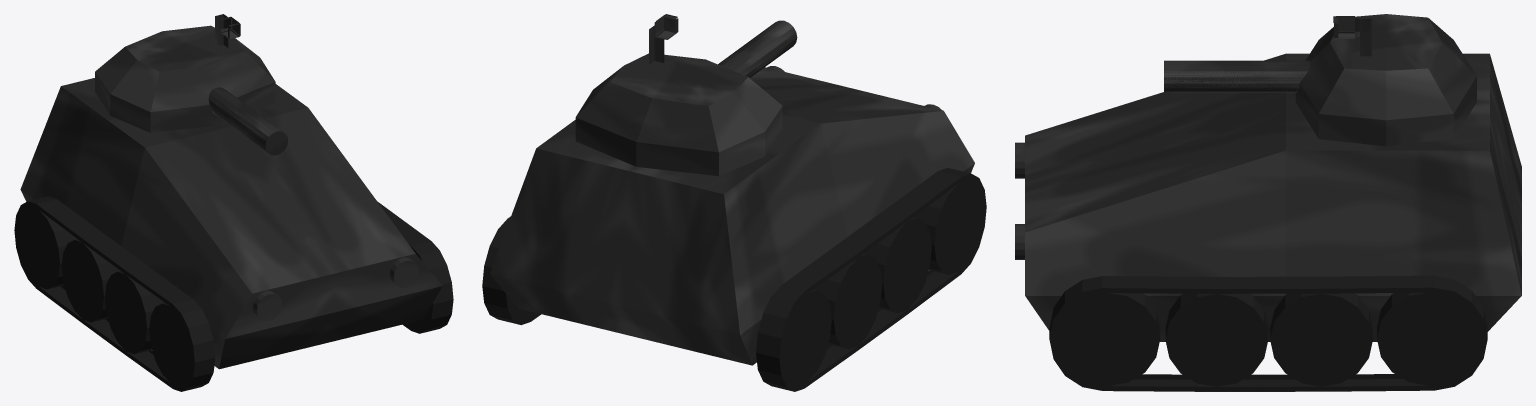
The model's file is fv101scorpioncomplete.fbx.
3 views of the same model, side by side, from view 1: azimuth 30°, elevation 25°; view 2: azimuth 150°, elevation 25°; view 3: azimuth 270°, elevation 25° (orthographic). The views are drawn at different scales.
Parts seen in each view (by area): view 1: Body, trackr, Turret, trackl; view 2: Body, trackr, Turret, trackl; view 3: Body, trackl, Turret.
Part boxes in pixels (x1,y1,x2,y2): Body: [20, 78, 442, 369]; trackr: [14, 196, 215, 391]; Turret: [95, 14, 288, 155]; trackl: [377, 201, 453, 333]; Body: [490, 66, 974, 365]; trackr: [756, 167, 986, 391]; Turret: [575, 14, 797, 176]; trackl: [482, 216, 541, 325]; Body: [1015, 53, 1521, 341]; trackl: [1049, 275, 1487, 391]; Turret: [1164, 14, 1476, 146].
Size of the model in its own units: 509 by 485 by 711.
4 materials, 4 textured.
